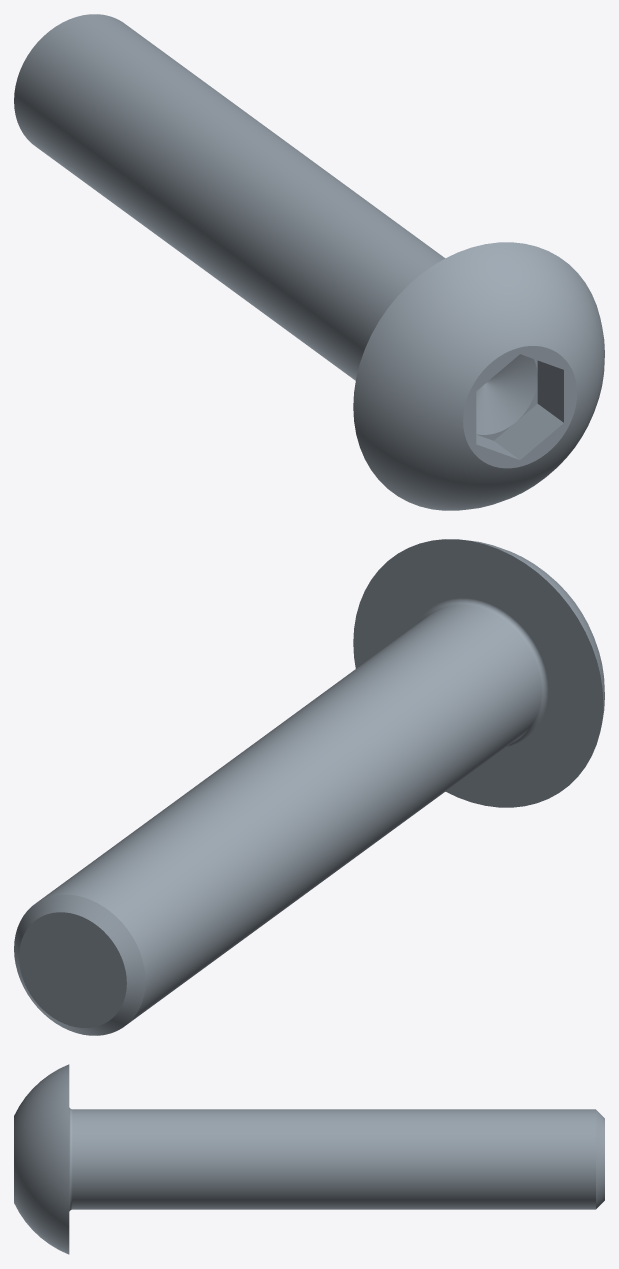
File: 059_Socket_button_head_screw_M3x0_5_x_16.obj
3 views of the same model, one above another, from view 1: azimuth 30°, elevation 25°; view 2: azimuth 150°, elevation 25°; view 3: azimuth 270°, elevation 25° (orthographic). The views are drawn at different scales.
Parts seen in each view (by area): view 1: mesh3990, mesh3993, mesh3994, mesh4002, mesh3999, mesh4000; view 2: mesh3990, mesh3992, mesh3988, mesh3989, mesh3991, mesh3993; view 3: mesh3990, mesh3993, mesh3989, mesh3991.
Boxes of the visible parts, <box> form: mesh3990: <box>14,14,444,380</box>; mesh3993: <box>353,242,604,510</box>; mesh3994: <box>463,346,577,468</box>; mesh4002: <box>476,354,537,434</box>; mesh3999: <box>494,404,563,459</box>; mesh4000: <box>537,360,563,422</box>; mesh3990: <box>38,604,541,1023</box>; mesh3992: <box>353,539,603,807</box>; mesh3988: <box>19,912,126,1027</box>; mesh3989: <box>14,894,145,1035</box>; mesh3991: <box>416,598,548,747</box>; mesh3993: <box>462,539,604,727</box>; mesh3990: <box>72,1109,595,1209</box>; mesh3993: <box>14,1064,69,1254</box>; mesh3989: <box>596,1110,604,1208</box>; mesh3991: <box>69,1107,72,1211</box>.
Size of the model in its own units: 0.0057 by 0.00569 by 0.0177.
